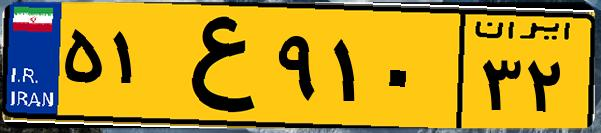0: (385, 28, 445, 110)
1: (330, 28, 385, 110), (110, 28, 158, 98)
2: (525, 38, 570, 115)
3: (475, 38, 525, 113)
5: (57, 26, 110, 100)
9: (270, 28, 330, 110)
ع: (158, 12, 270, 120)
